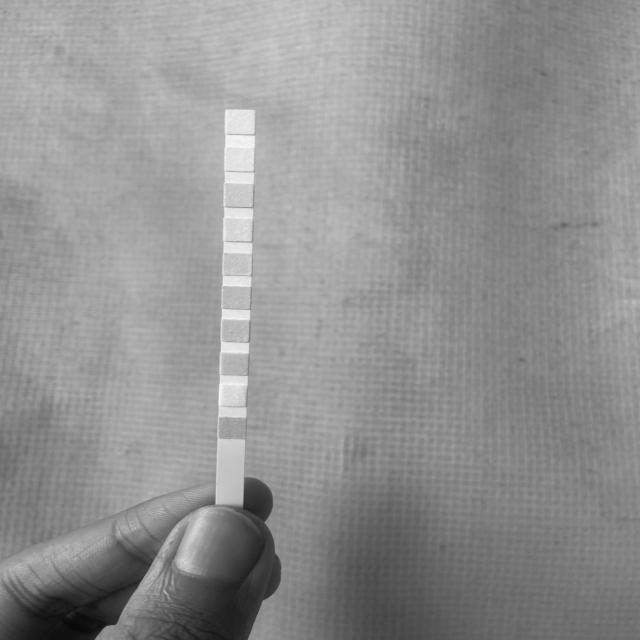Bilirubin: (219, 385, 247, 407)
Blood: (222, 287, 250, 309)
Glucose: (219, 418, 247, 438)
Ketone: (220, 352, 248, 374)
Leukocytes: (226, 110, 255, 134)
Nitrite: (224, 148, 254, 171)
Protein: (224, 219, 253, 241)
SpGravity: (221, 320, 249, 342)
Urobilinogen: (224, 184, 253, 206)
background: (0, 0, 640, 640)
pH: (223, 254, 252, 275)
strip: (217, 109, 256, 505)
